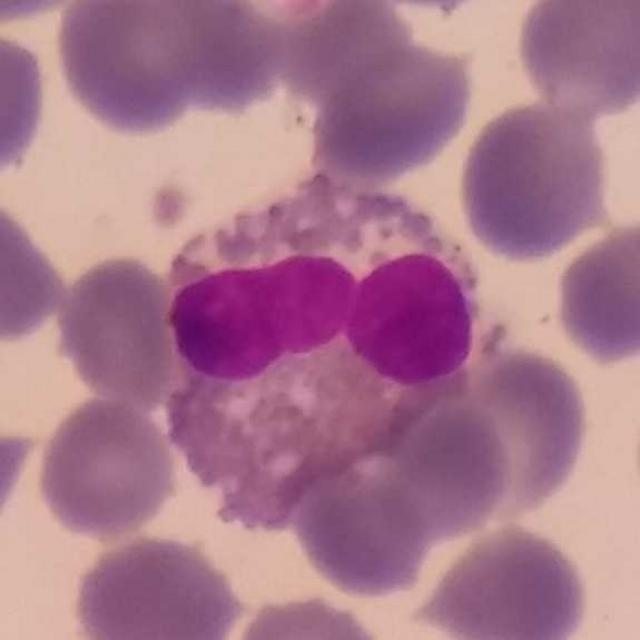Eosinophil: (163, 165, 506, 527)
Platelets: (148, 189, 192, 236)
RBC: (285, 396, 515, 593), (422, 343, 595, 525), (454, 97, 615, 265), (304, 34, 478, 184), (406, 518, 595, 640), (32, 392, 182, 543), (51, 250, 184, 408), (55, 1, 204, 140), (66, 530, 246, 640), (511, 0, 640, 120), (160, 0, 286, 122), (280, 0, 422, 103), (551, 212, 640, 370), (0, 185, 72, 350), (0, 18, 53, 187), (223, 589, 394, 640), (0, 416, 41, 549), (0, 0, 110, 27)
